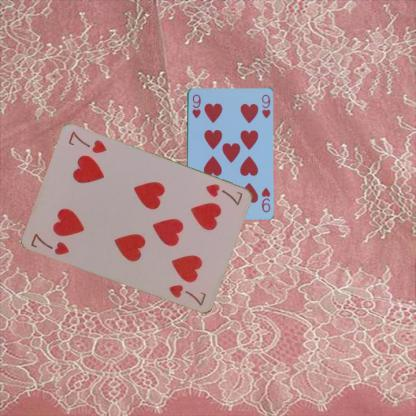7h: (28, 230, 71, 256), (204, 181, 244, 207)
9h: (190, 91, 202, 119), (259, 185, 271, 213)
